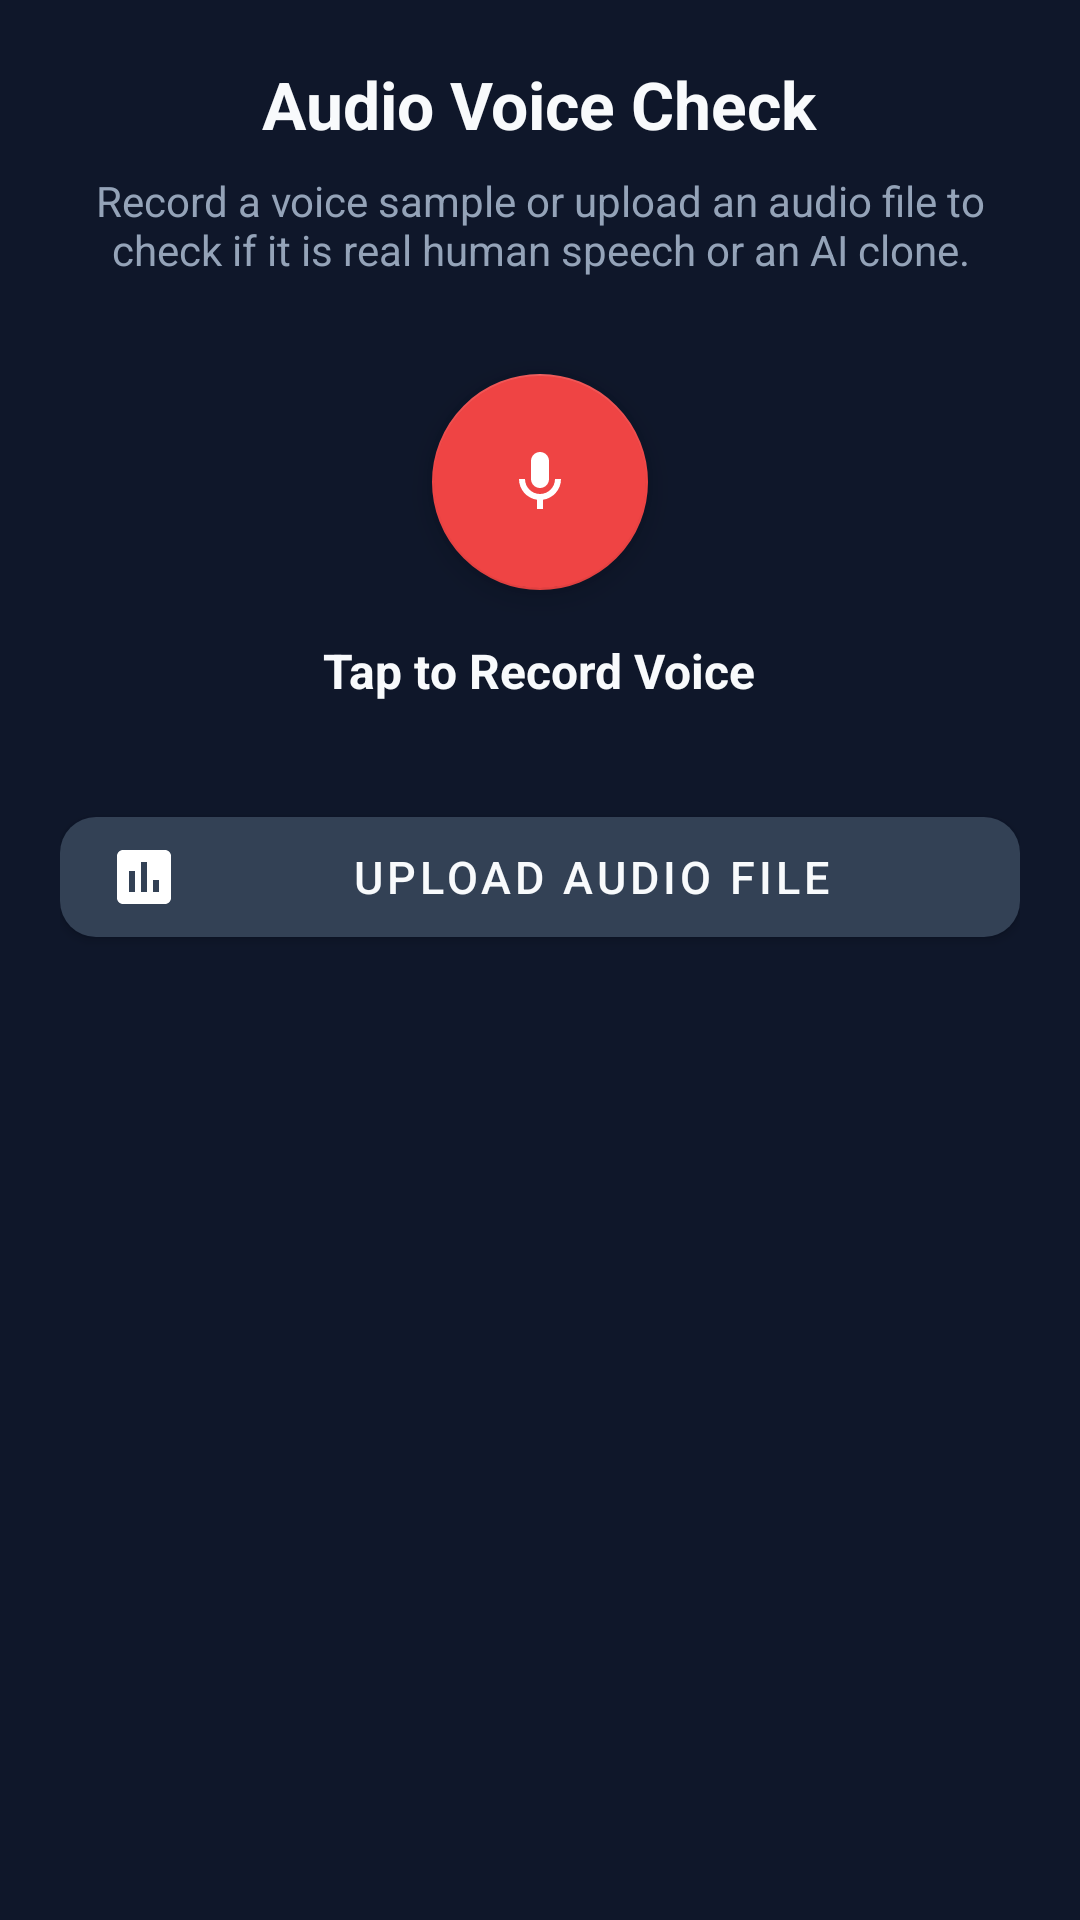

Icon bounding boxes for this 1080w x 1920h phone screenshot, format (x1, y1, x2, y2):
mic: (432, 374, 648, 590)
